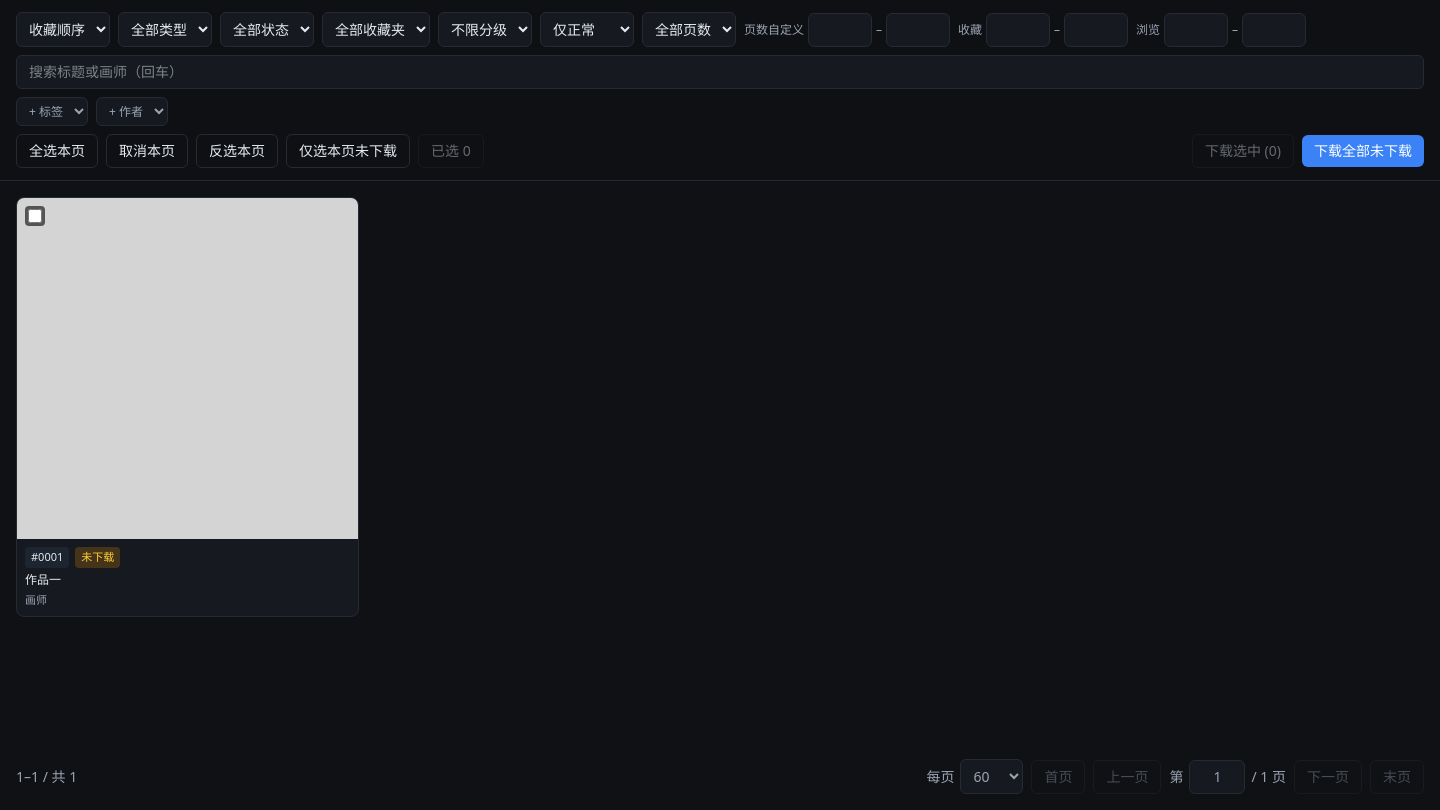
Scenario: Gallery › inverts the page selection
expect the text "作品一" is shown: met, box [25,570,61,588]
Click the button "反选本页".
click(237, 151)  # box [196,134,278,168]
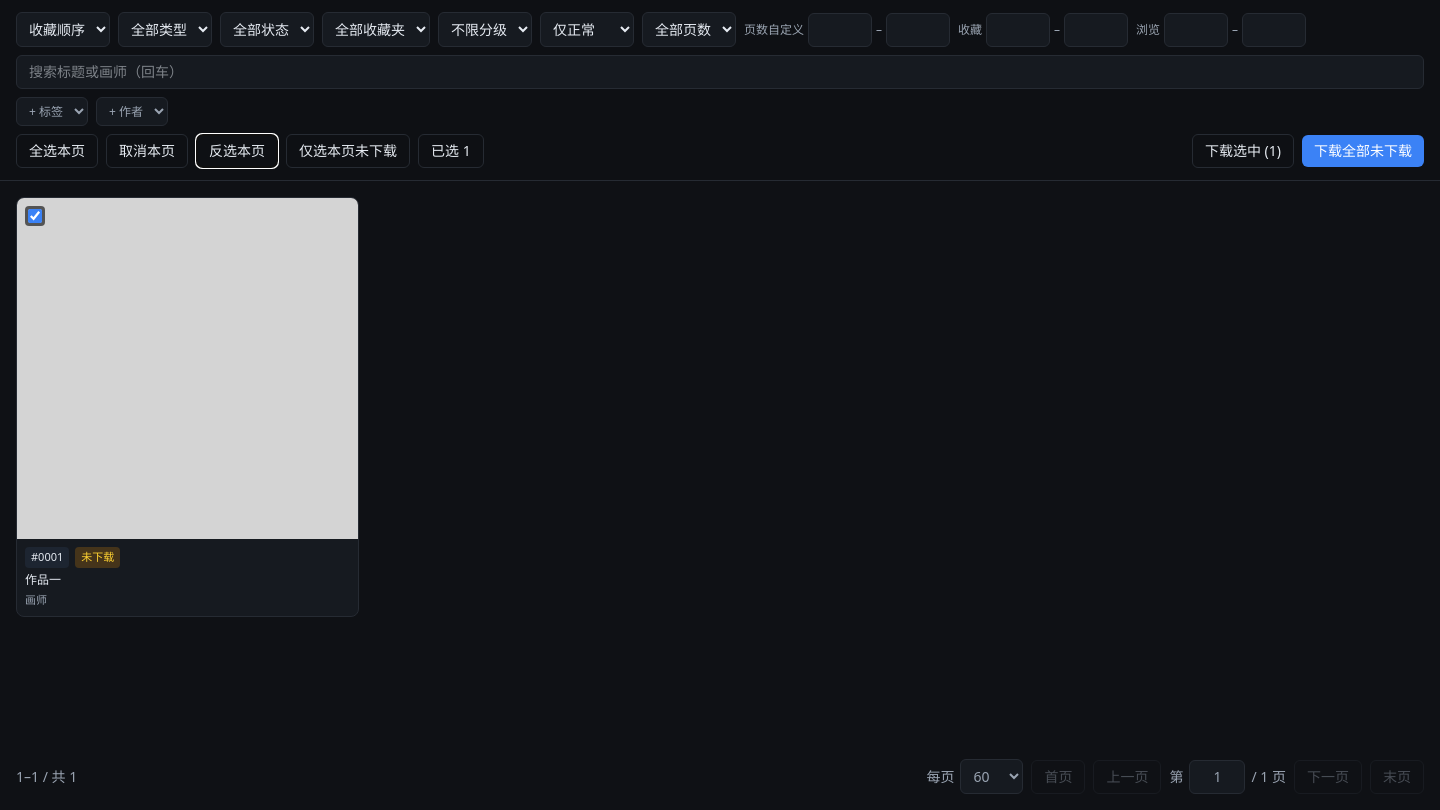
expect the button "下载选中 (1)" is shown: met, box [1192,134,1294,168]
Click the button "反选本页".
click(237, 151)  # box [196,134,278,168]
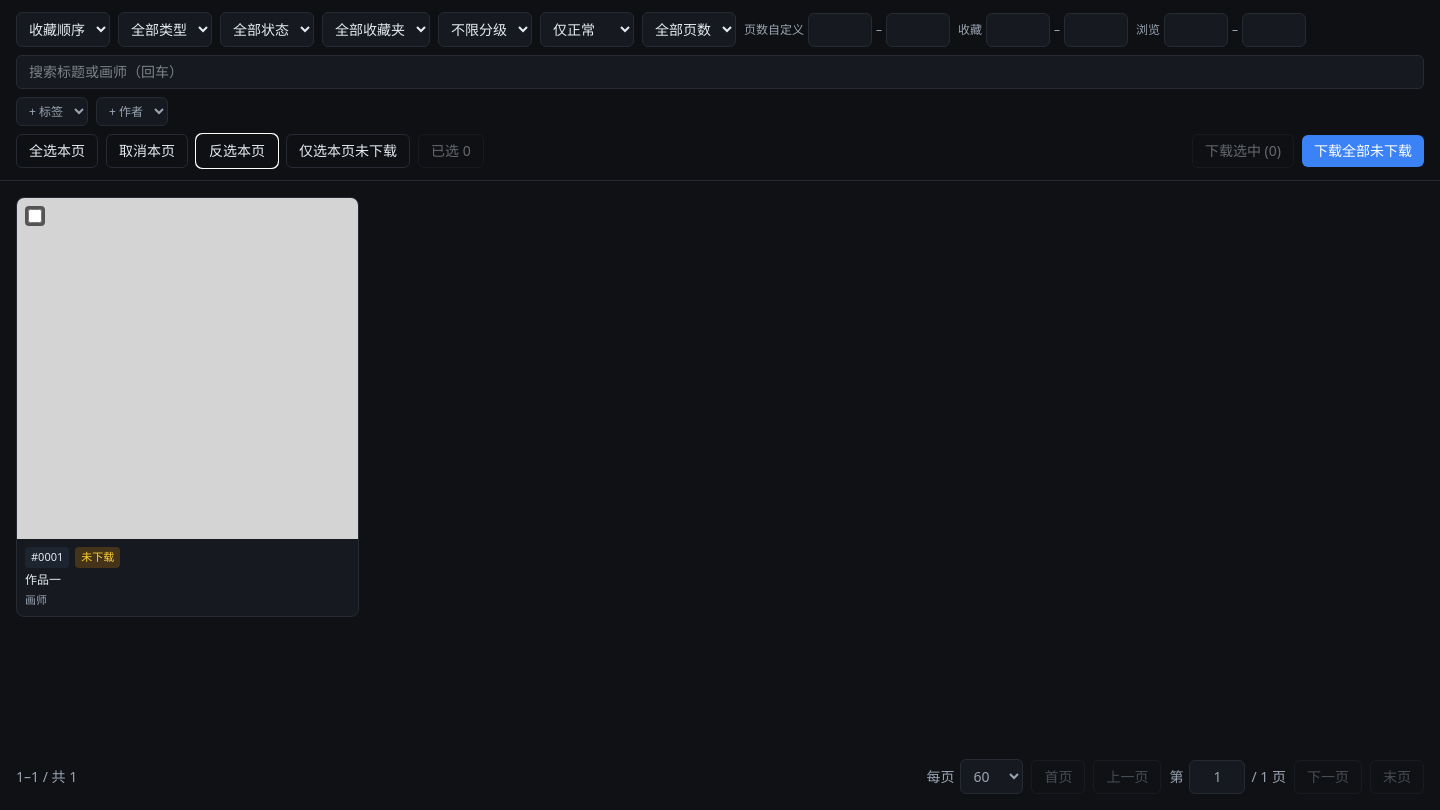
expect the button "下载选中 (0)" is shown: met, box [1192,134,1294,168]
